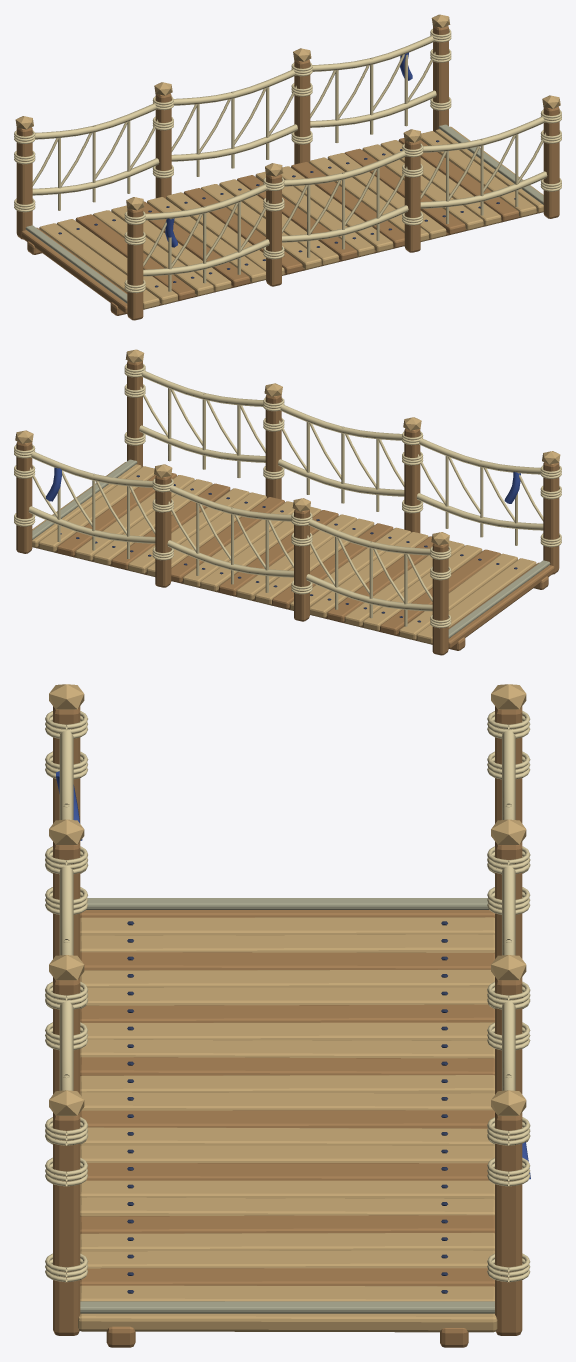
File: mossfall-rope-footbridge.glb
3 renders of one model, top to bottom at view 1: azimuth 30°, elevation 25°; view 2: azimuth 150°, elevation 25°; view 3: azimuth 270°, elevation 25°, orthographic. The views are drawn at different scales.
Parts seen in each view (by area): view 1: mossfall-rope-footbridge / rope, mossfall-rope-footbridge / woodlight, mossfall-rope-footbridge / wood, mossfall-rope-footbridge / shadowstone, mossfall-rope-footbridge / cobalt; view 2: mossfall-rope-footbridge / rope, mossfall-rope-footbridge / woodlight, mossfall-rope-footbridge / wood, mossfall-rope-footbridge / shadowstone, mossfall-rope-footbridge / cobalt; view 3: mossfall-rope-footbridge / woodlight, mossfall-rope-footbridge / wood, mossfall-rope-footbridge / rope, mossfall-rope-footbridge / shadowstone, mossfall-rope-footbridge / ink.
Part boxes in pixels (left/top/right/bottom): mossfall-rope-footbridge / rope: left=14, top=29, right=561, bottom=293; mossfall-rope-footbridge / woodlight: left=15, top=14, right=560, bottom=309; mossfall-rope-footbridge / wood: left=16, top=26, right=559, bottom=320; mossfall-rope-footbridge / shadowstone: left=25, top=124, right=543, bottom=303; mossfall-rope-footbridge / cobalt: left=165, top=52, right=412, bottom=247; mossfall-rope-footbridge / rope: left=14, top=364, right=561, bottom=628; mossfall-rope-footbridge / woodlight: left=15, top=349, right=560, bottom=644; mossfall-rope-footbridge / wood: left=16, top=361, right=559, bottom=655; mossfall-rope-footbridge / shadowstone: left=32, top=459, right=550, bottom=638; mossfall-rope-footbridge / cobalt: left=45, top=467, right=520, bottom=503; mossfall-rope-footbridge / woodlight: left=49, top=684, right=526, bottom=1332; mossfall-rope-footbridge / wood: left=53, top=706, right=522, bottom=1347; mossfall-rope-footbridge / rope: left=45, top=711, right=530, bottom=1282; mossfall-rope-footbridge / shadowstone: left=80, top=898, right=494, bottom=1313; mossfall-rope-footbridge / ink: left=127, top=921, right=447, bottom=1293.
Bounding box in the file's own units: 6.27 × 1.73 × 3.03.
